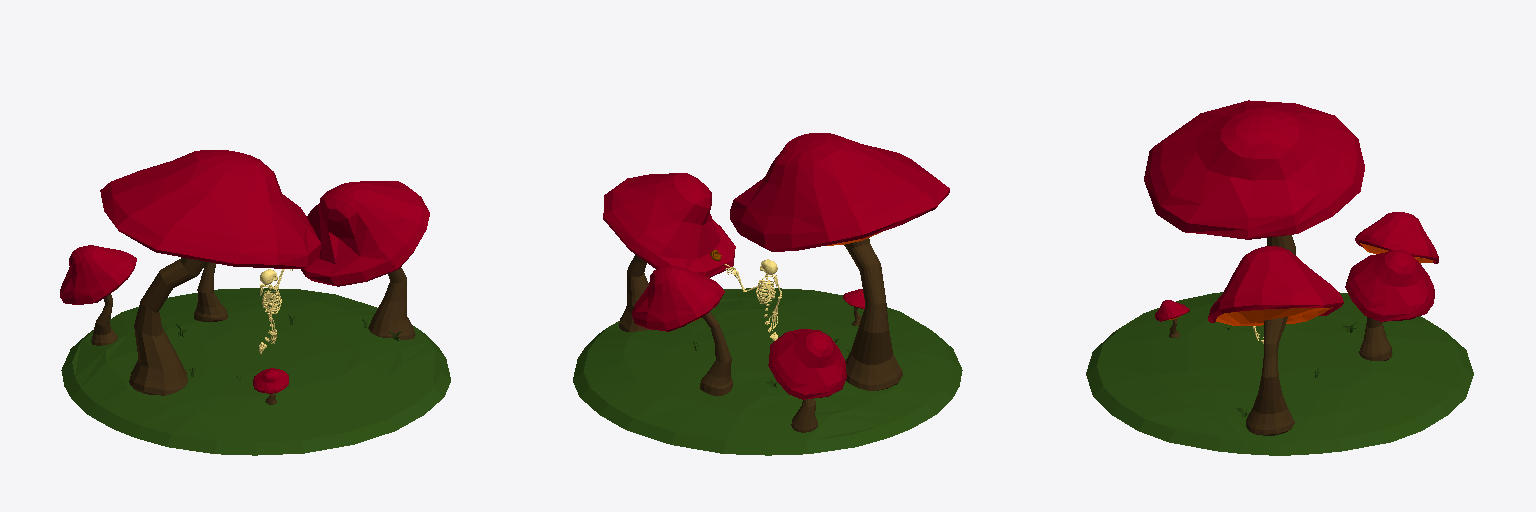
File: SecondAttempt.obj
The picture shows the model from 3 angles: view 1: azimuth 30°, elevation 25°; view 2: azimuth 150°, elevation 25°; view 3: azimuth 270°, elevation 25°; orthographic projection.
Parts seen in each view (by area): view 1: pCube1, Mushroom3, Mushroom, Mushroom1, Mushroom2, Mushroom4; view 2: pCube1, Mushroom3, Mushroom, Mushroom2, Mushroom1; view 3: pCube1, Mushroom3, Mushroom, Mushroom2, Mushroom1, Mushroom4.
Boxes of the visible parts, <box> form: pCube1: <box>61,288,450,455</box>; Mushroom3: <box>100,150,320,395</box>; Mushroom: <box>301,181,429,339</box>; Mushroom1: <box>60,245,136,345</box>; Mushroom2: <box>194,262,227,321</box>; Mushroom4: <box>253,368,288,404</box>; pCube1: <box>573,288,962,455</box>; Mushroom3: <box>730,133,949,390</box>; Mushroom: <box>603,173,735,331</box>; Mushroom2: <box>632,266,732,395</box>; Mushroom1: <box>768,329,846,432</box>; pCube1: <box>1086,292,1473,455</box>; Mushroom3: <box>1144,100,1364,255</box>; Mushroom: <box>1208,246,1343,435</box>; Mushroom2: <box>1345,250,1434,360</box>; Mushroom1: <box>1355,212,1438,263</box>; Mushroom4: <box>1155,300,1189,337</box>.
Bounding box in the file's own units: 26.09 × 17.53 × 26.09.